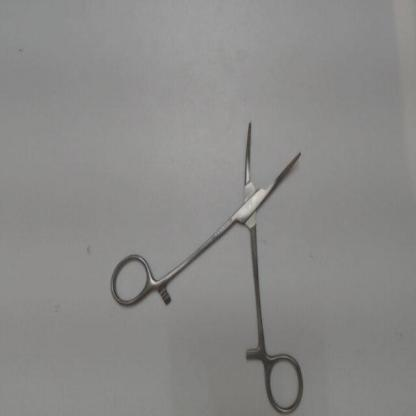Crile Artery Forceps: (106, 116, 308, 415)
